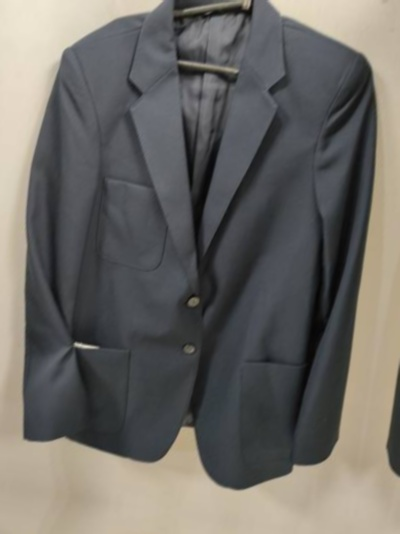Blazer: (0, 0, 400, 502), (367, 28, 400, 534), (0, 0, 26, 443), (0, 516, 329, 534)
